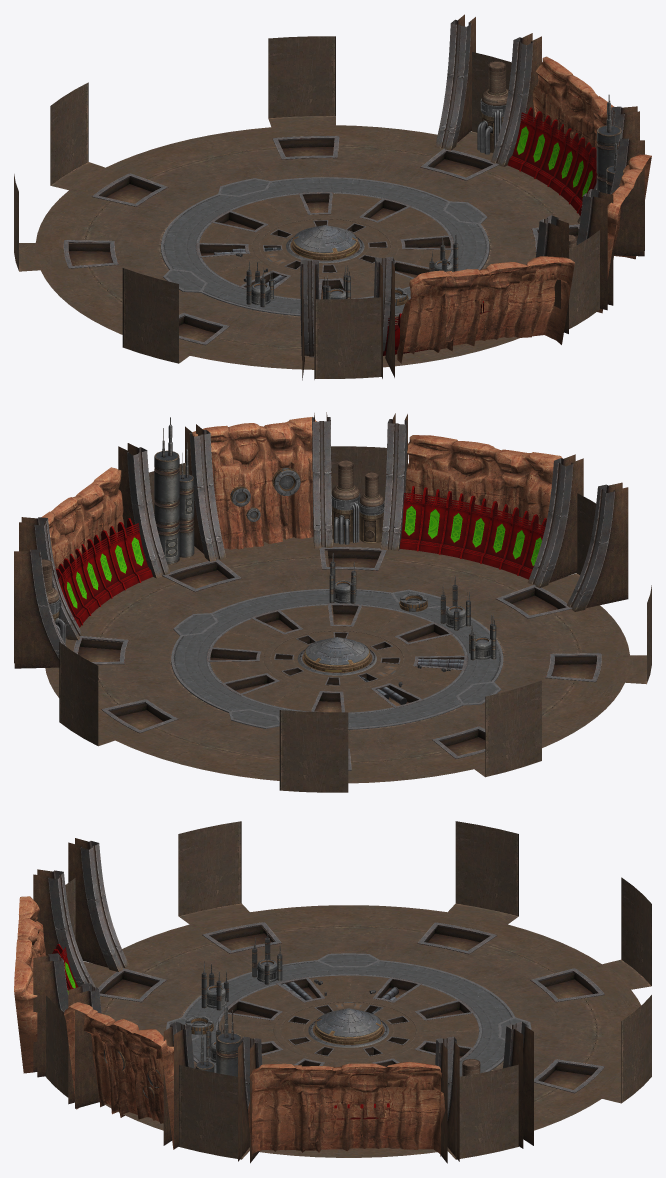
File: env_geo_factory_core_pre.glb
The picture shows the model from 3 angles, top to bottom: view 1: azimuth 30°, elevation 25°; view 2: azimuth 150°, elevation 25°; view 3: azimuth 270°, elevation 25°; orthographic projection. The views are drawn at different scales.
Parts seen in each view (by area): view 1: geo_factory_floor_04_mesh (×4), geo_factory_pillar_01 (×8), geo_rockwall_01 (1), geo_factory_floor_03_mesh (×4), geo_factory_floor_02_mesh (×4), geo_rockwall_01 (2), geo_factory_wall_01a (×5), geo_factory_floor_01_mesh (×4), geo_factory_reactor_01, geo_factory_pits (4), geo_factory_pits (6), geo_factory_pits (5) (+7 smaller); view 2: geo_factory_floor_04_mesh (×4), geo_factory_pillar_01 (×8), geo_factory_floor_03_mesh (×4), geo_factory_floor_02_mesh (×4), geo_rockwall_01, geo_factory_wall_01a (×11), geo_rockwall_01 (1), geo_rockwall_01 (2), geo_factory_tank_02a (1), geo_factory_floor_01_mesh (×4), geo_factory_reactor_01, geo_factory_pits (5) (+12 smaller); view 3: geo_factory_floor_04_mesh (×4), geo_factory_pillar_01 (×8), geo_rockwall_01 (2), geo_factory_floor_02_mesh (×4), geo_factory_floor_03_mesh (×3), geo_rockwall_01, geo_rockwall_01 (1), geo_factory_floor_01_mesh (×4), geo_factory_reactor_01, geo_factory_pits (4), geo_factory_pits (1), geo_factory_pits (2) (+3 smaller).
Part boxes in pixels (box(x1,y1,x2,y2)): geo_factory_floor_04_mesh (×4): box(14, 36, 613, 378); geo_factory_pillar_01 (×8): box(300, 14, 644, 380); geo_rockwall_01 (1): box(397, 256, 574, 363); geo_factory_floor_03_mesh (×4): box(161, 177, 489, 315); geo_factory_floor_02_mesh (×4): box(199, 193, 450, 298); geo_rockwall_01 (2): box(532, 56, 614, 149); geo_factory_wall_01a (×5): box(507, 107, 591, 202); geo_factory_floor_01_mesh (×4): box(260, 219, 390, 273); geo_factory_reactor_01: box(286, 225, 364, 263); geo_factory_pits (4): box(92, 173, 292, 238); geo_factory_pits (6): box(346, 148, 498, 232); geo_factory_pits (5): box(272, 136, 339, 226); geo_factory_floor_04_mesh (×4): box(45, 446, 651, 792); geo_factory_pillar_01 (×8): box(14, 412, 628, 668); geo_factory_floor_03_mesh (×4): box(171, 588, 503, 729); geo_factory_floor_02_mesh (×4): box(210, 605, 464, 712); geo_rockwall_01: box(192, 417, 316, 549); geo_factory_wall_01a (×11): box(69, 486, 531, 613); geo_rockwall_01 (1): box(406, 435, 562, 529); geo_rockwall_01 (2): box(41, 467, 124, 568); geo_factory_tank_02a (1): box(154, 417, 179, 564); geo_factory_floor_01_mesh (×4): box(271, 631, 403, 686); geo_factory_reactor_01: box(297, 637, 376, 675); geo_factory_pits (5): box(101, 667, 304, 733); geo_factory_floor_04_mesh (×4): box(45, 821, 651, 1159); geo_factory_pillar_01 (×8): box(33, 838, 533, 1163); geo_rockwall_01 (2): box(248, 1061, 445, 1156); geo_factory_floor_02_mesh (×4): box(219, 975, 478, 1067); geo_factory_floor_03_mesh (×3): box(166, 953, 531, 1076); geo_rockwall_01: box(64, 1002, 177, 1149); geo_rockwall_01 (1): box(14, 896, 46, 1073); geo_factory_floor_01_mesh (×4): box(281, 1002, 415, 1058); geo_factory_reactor_01: box(308, 1008, 389, 1047); geo_factory_pits (4): box(386, 968, 604, 1024); geo_factory_pits (1): box(98, 968, 310, 1024); geo_factory_pits (2): box(364, 922, 497, 1014).
Size of the model in its own units: 197 by 54.68 by 203.
18 materials, 18 textured.
